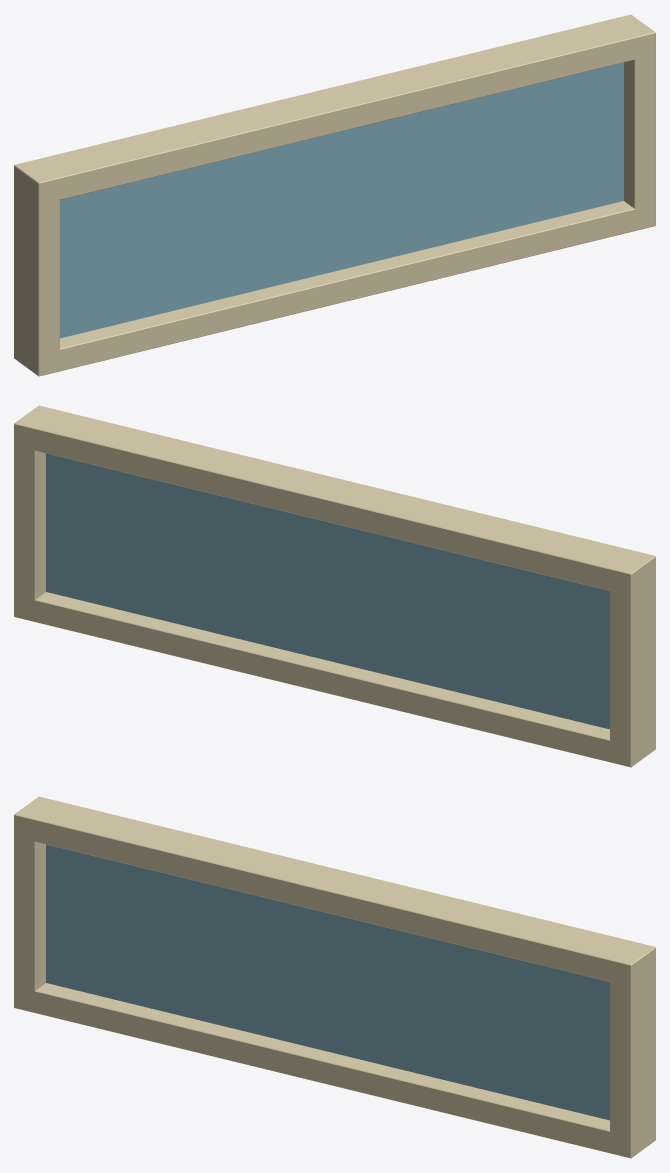
Rendered from b21_window_clerestory_2m.glb.
3 renders of one model, top to bottom at view 1: azimuth 30°, elevation 25°; view 2: azimuth 150°, elevation 25°; view 3: azimuth 330°, elevation 25°, orthographic.
Parts seen in each view (by area): view 1: b21_window_clerestory_2m; view 2: b21_window_clerestory_2m; view 3: b21_window_clerestory_2m.
Part boxes in pixels (x1,y1,x2,y2): b21_window_clerestory_2m: (14, 14, 655, 376); b21_window_clerestory_2m: (14, 405, 655, 767); b21_window_clerestory_2m: (14, 796, 655, 1158).
Bounding box in the file's own units: 2 × 0.6 × 0.14.
